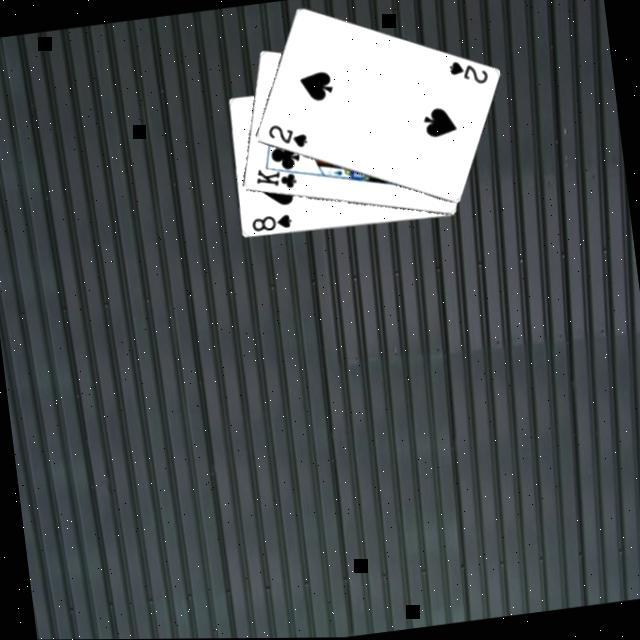2S: (266, 120, 314, 156), (447, 56, 492, 94)
8S: (249, 212, 297, 237)
KC: (252, 161, 308, 197)
